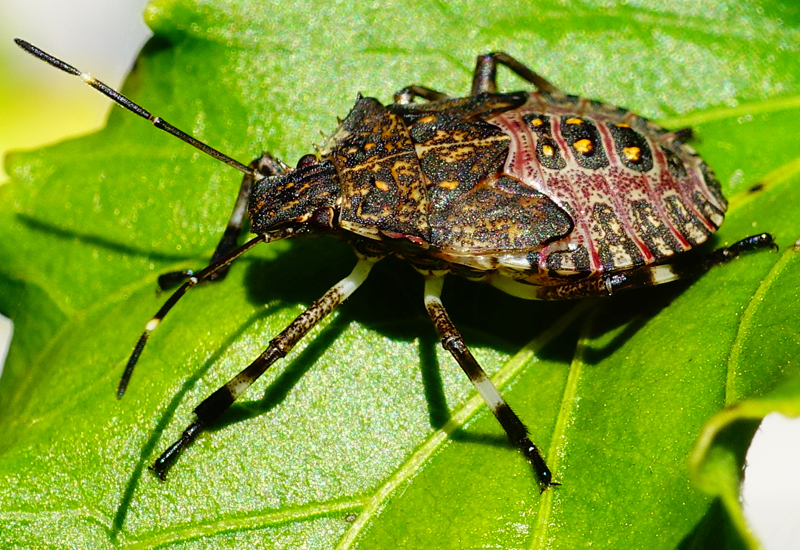Brown Marmorated Stink Bug: (7, 28, 792, 502)
